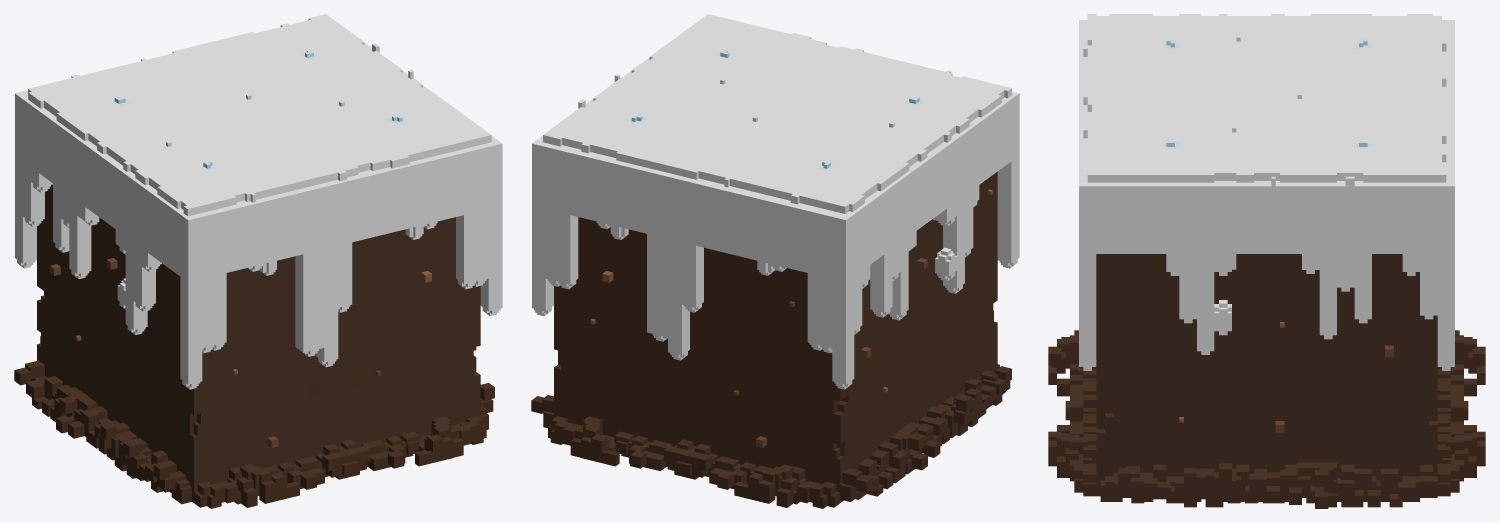
The model's file is groundBase.obj.
The picture shows the model from 3 angles, left to right: view 1: azimuth 30°, elevation 25°; view 2: azimuth 150°, elevation 25°; view 3: azimuth 270°, elevation 25°; orthographic projection. The views are drawn at different scales.
Size of the model in its own units: 10 by 8.3 by 10.
Materials: 1 (1 with a texture image).
